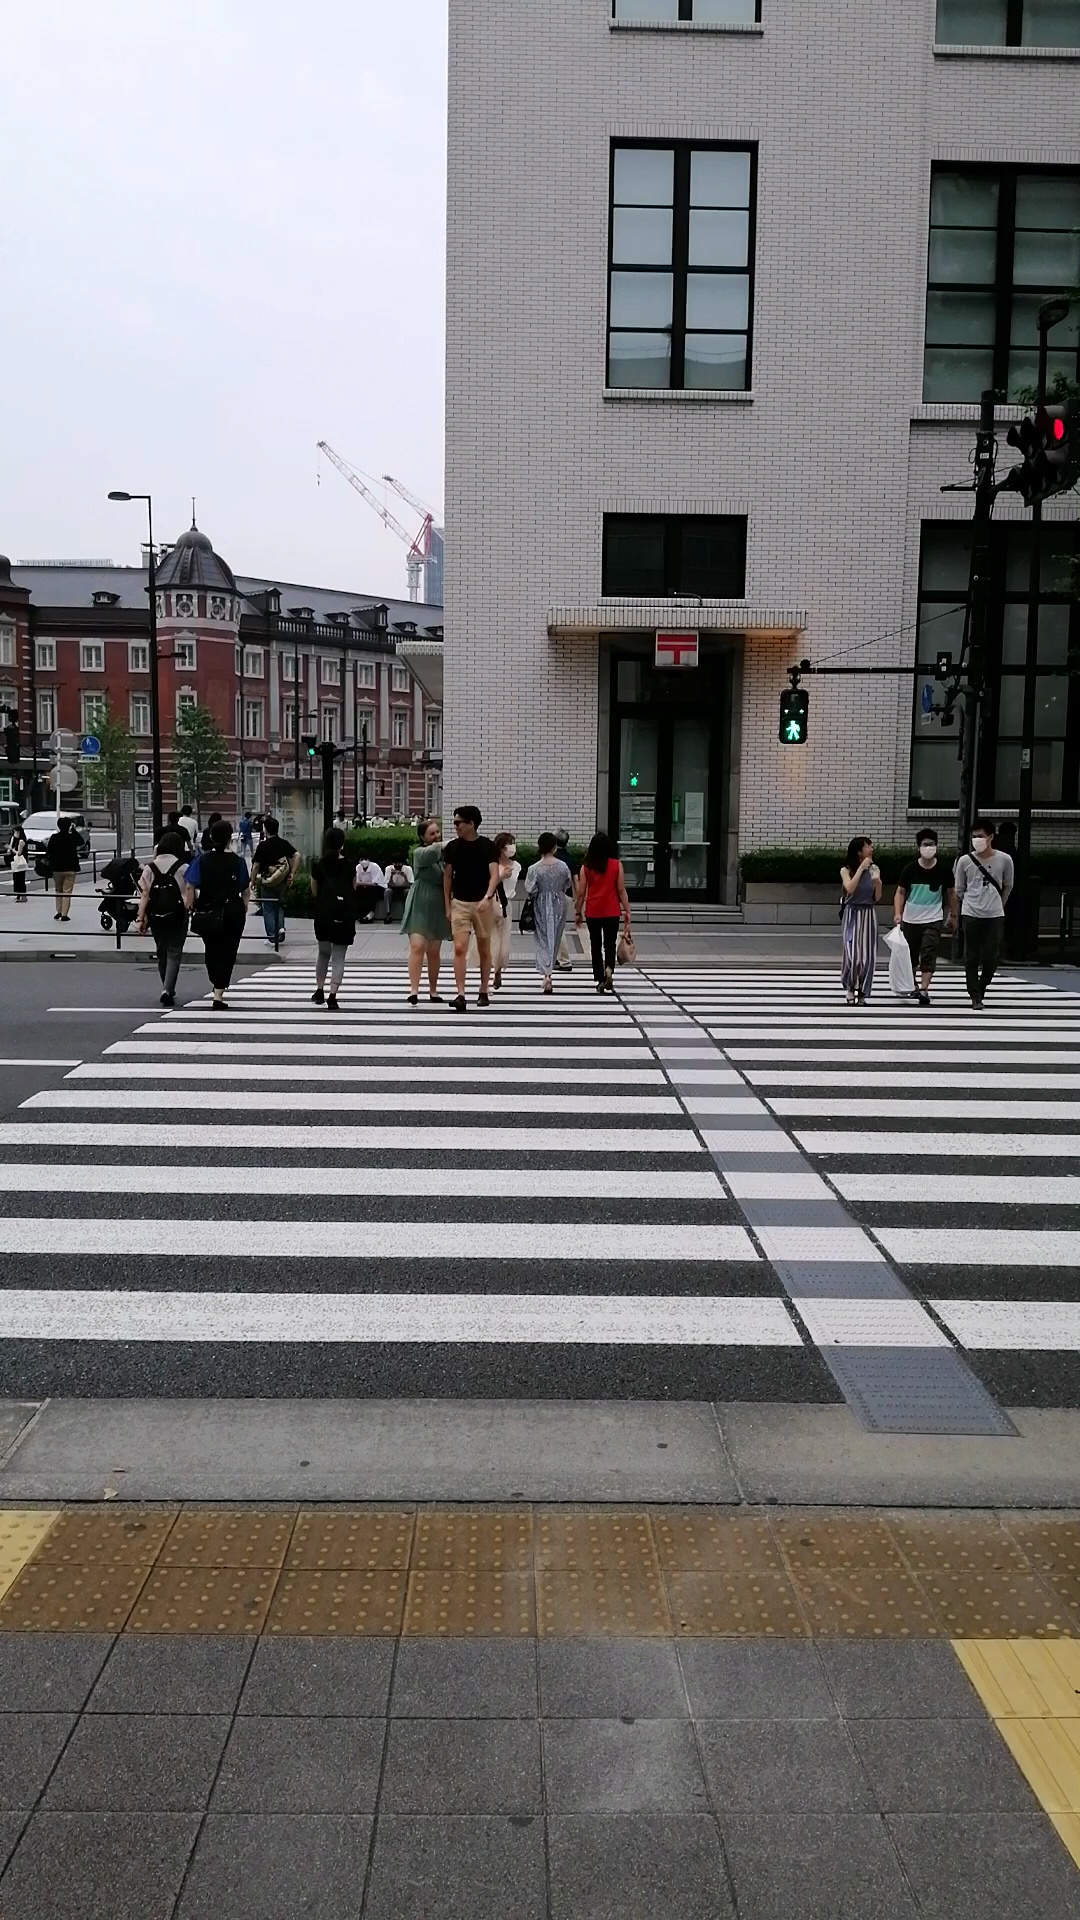green: (778, 688, 807, 745)
